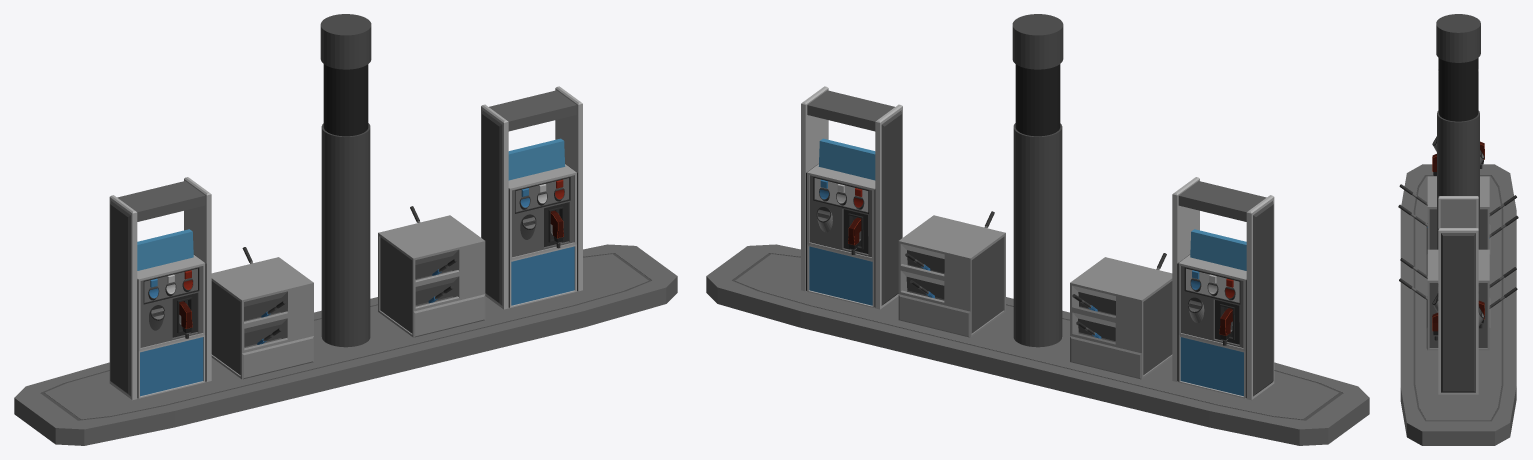
Rendered from Double Gas Pump.fbx.
3 renders of one model, left to right at view 1: azimuth 30°, elevation 25°; view 2: azimuth 150°, elevation 25°; view 3: azimuth 270°, elevation 25°, orthographic. The views are drawn at different scales.
Parts seen in each view (by area): view 1: Double Gas Pump; view 2: Double Gas Pump; view 3: Double Gas Pump.
Part boxes in pixels (x1,y1,x2,y2): Double Gas Pump: [14, 14, 677, 445]; Double Gas Pump: [706, 14, 1369, 445]; Double Gas Pump: [1398, 14, 1518, 445].
Size of the model in its own units: 610 by 308 by 116.
1 material, 1 textured.
